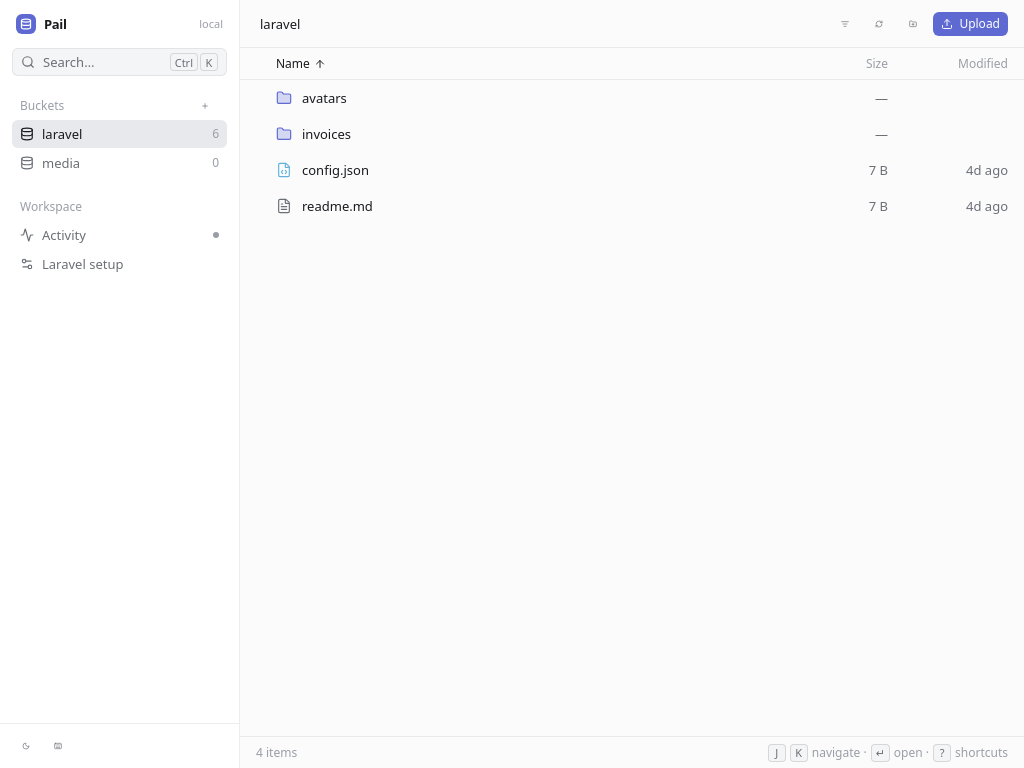
Test: BucketView › opens folders, shows breadcrumbs and goes back up with Backspace
Double-click the text "avatars": (324,98) [302,88,347,108]
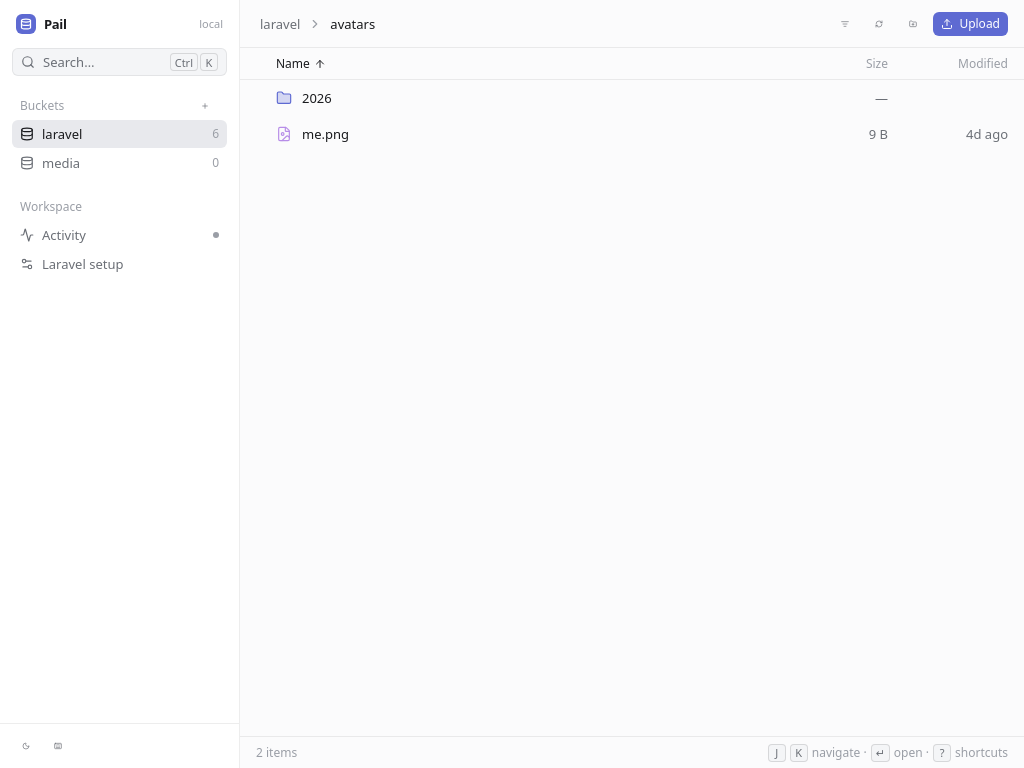
expect the link "avatars" is shown: met, box [330,14,375,32]
expect the text "me.png" is shown: met, box [302,124,349,144]
Press Backspace
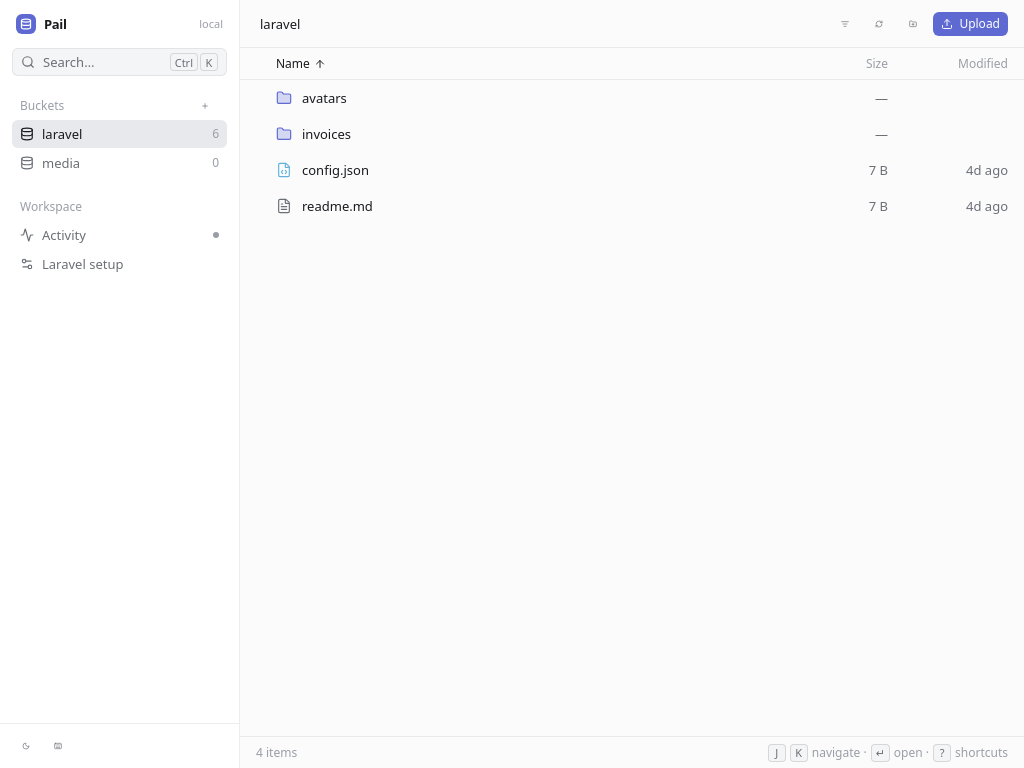
expect the text "readme.md" is shown: met, box [302,196,373,216]
